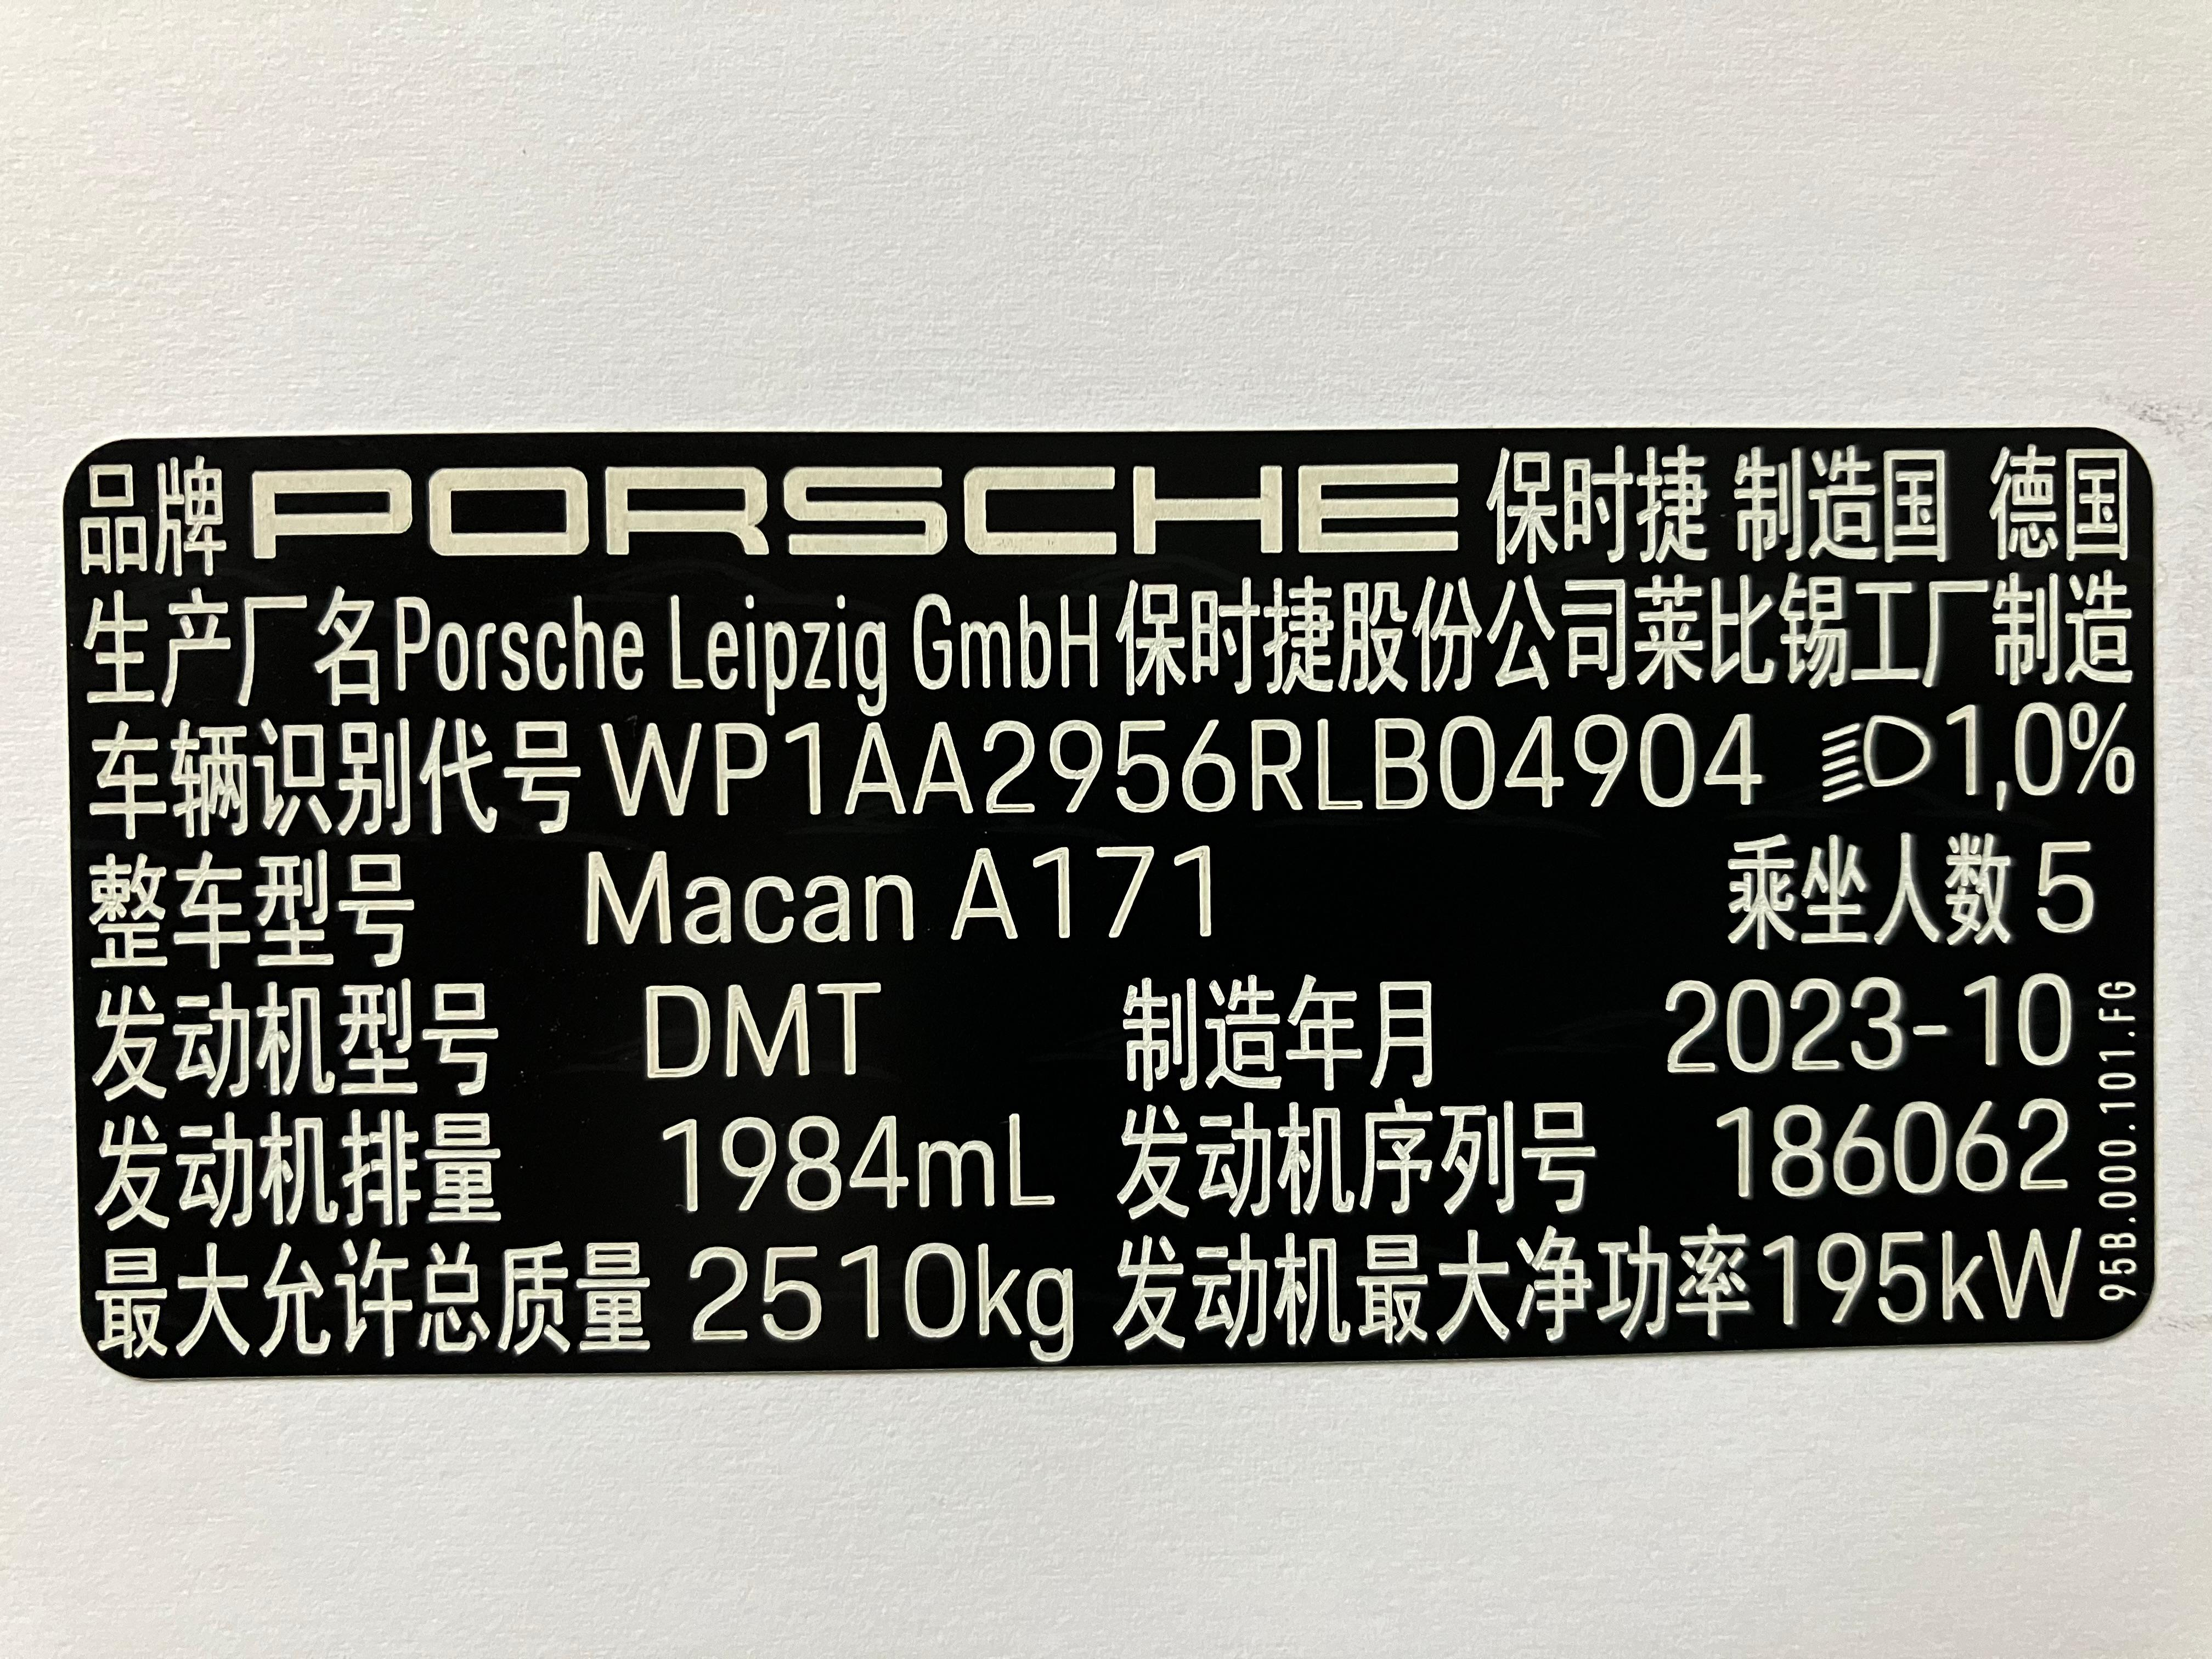Typlabel-China: (63, 427, 2155, 1380)
